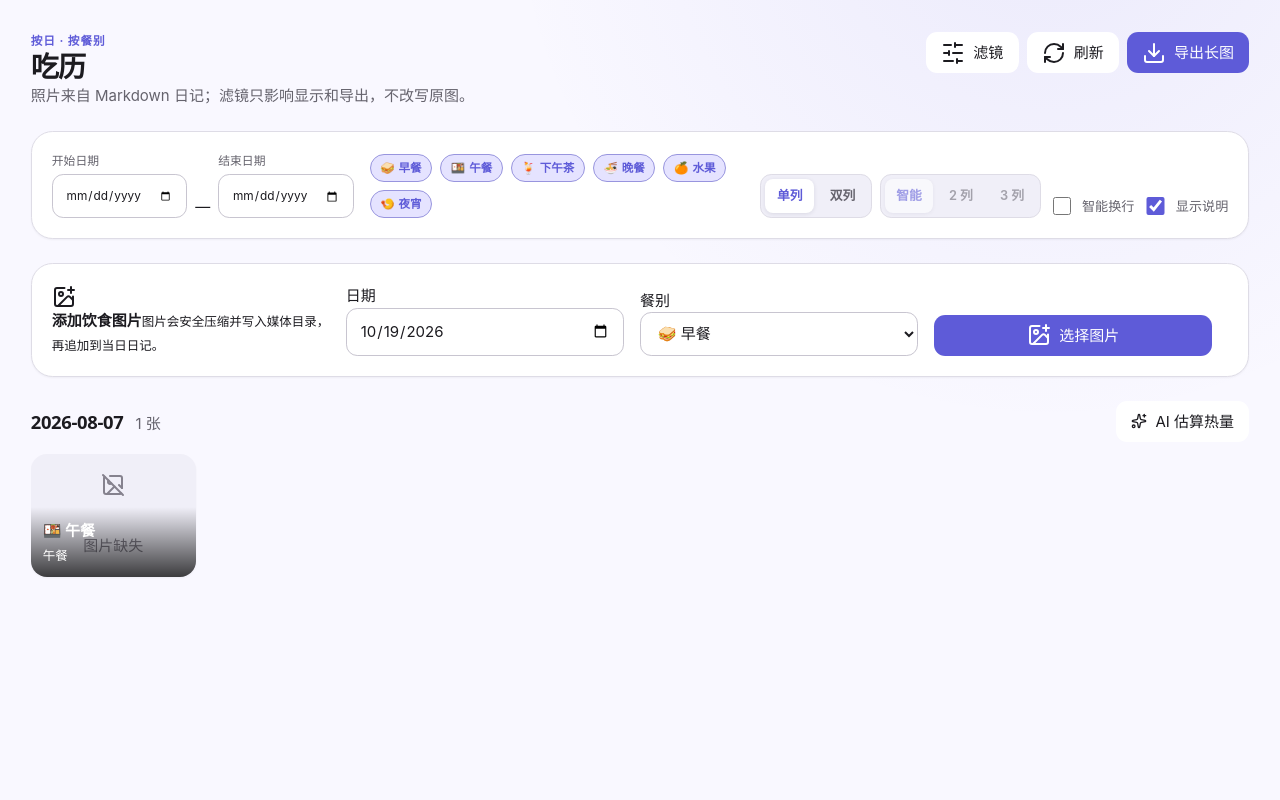
Scenario: MealPage AI calorie integration › does not refresh or claim partial success when estimation fails
Click the button "AI 估算热量" at x=1183, y=421, box left=1116, top=401, right=1249, bottom=442
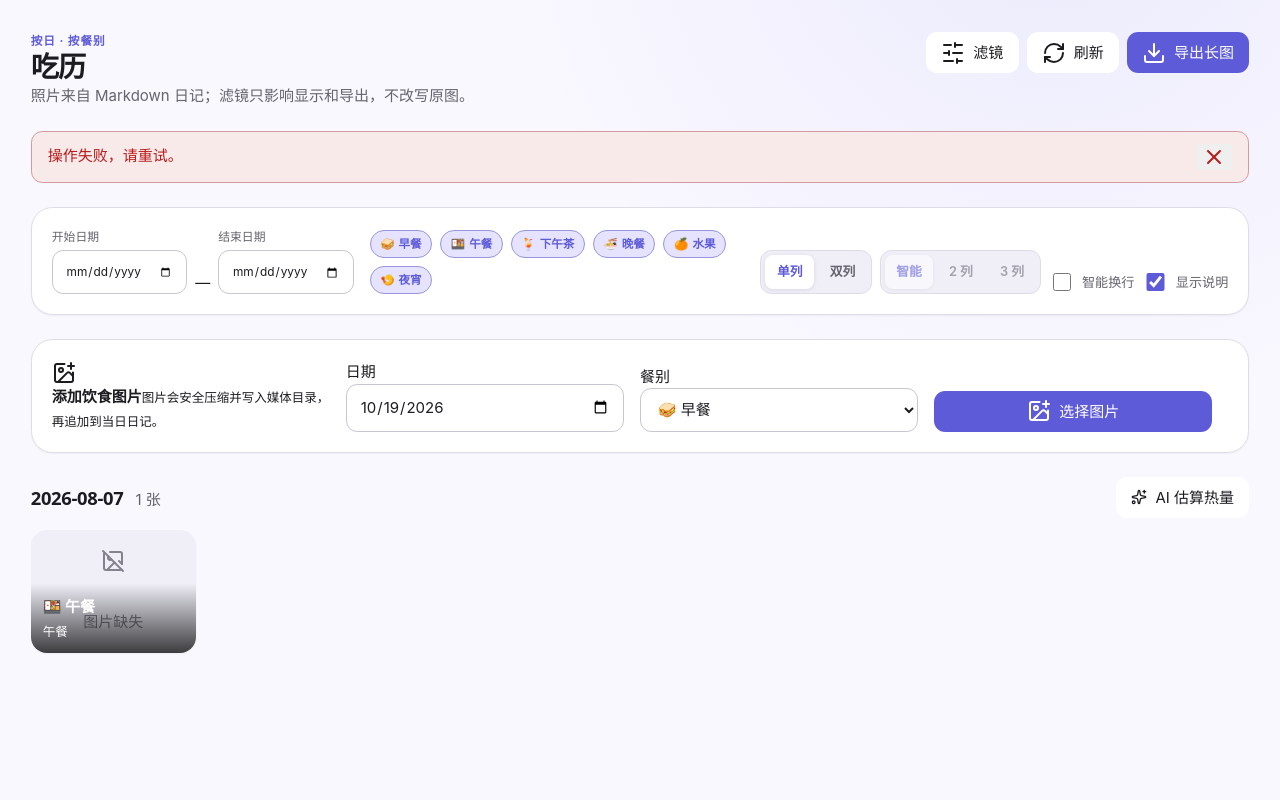
Check: the message "操作失败，请重试。" is shown, box left=31, top=131, right=1249, bottom=183
